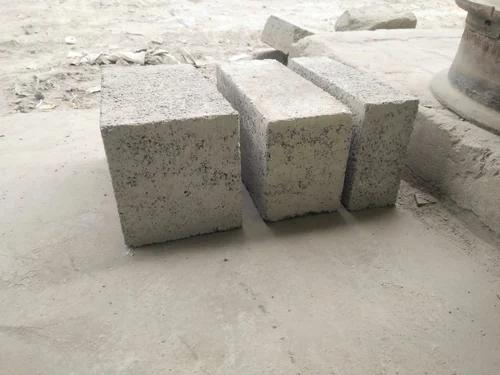brick: (101, 114, 240, 249), (266, 112, 350, 223), (355, 99, 416, 212)
